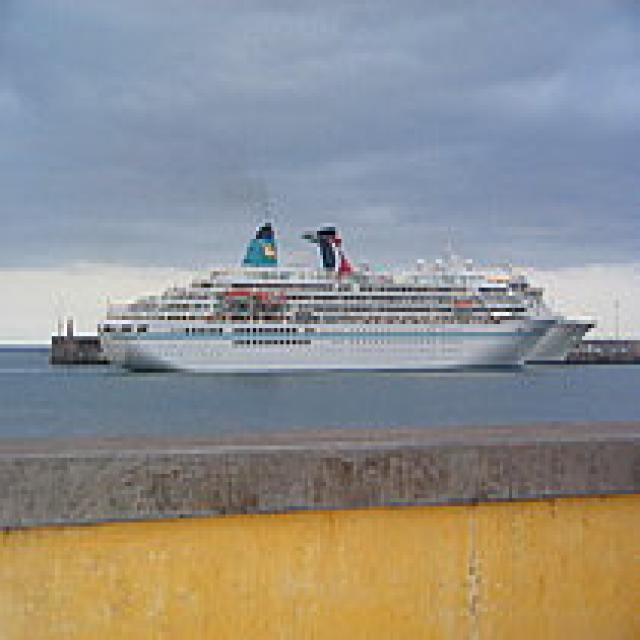Ship: (99, 220, 562, 382)
